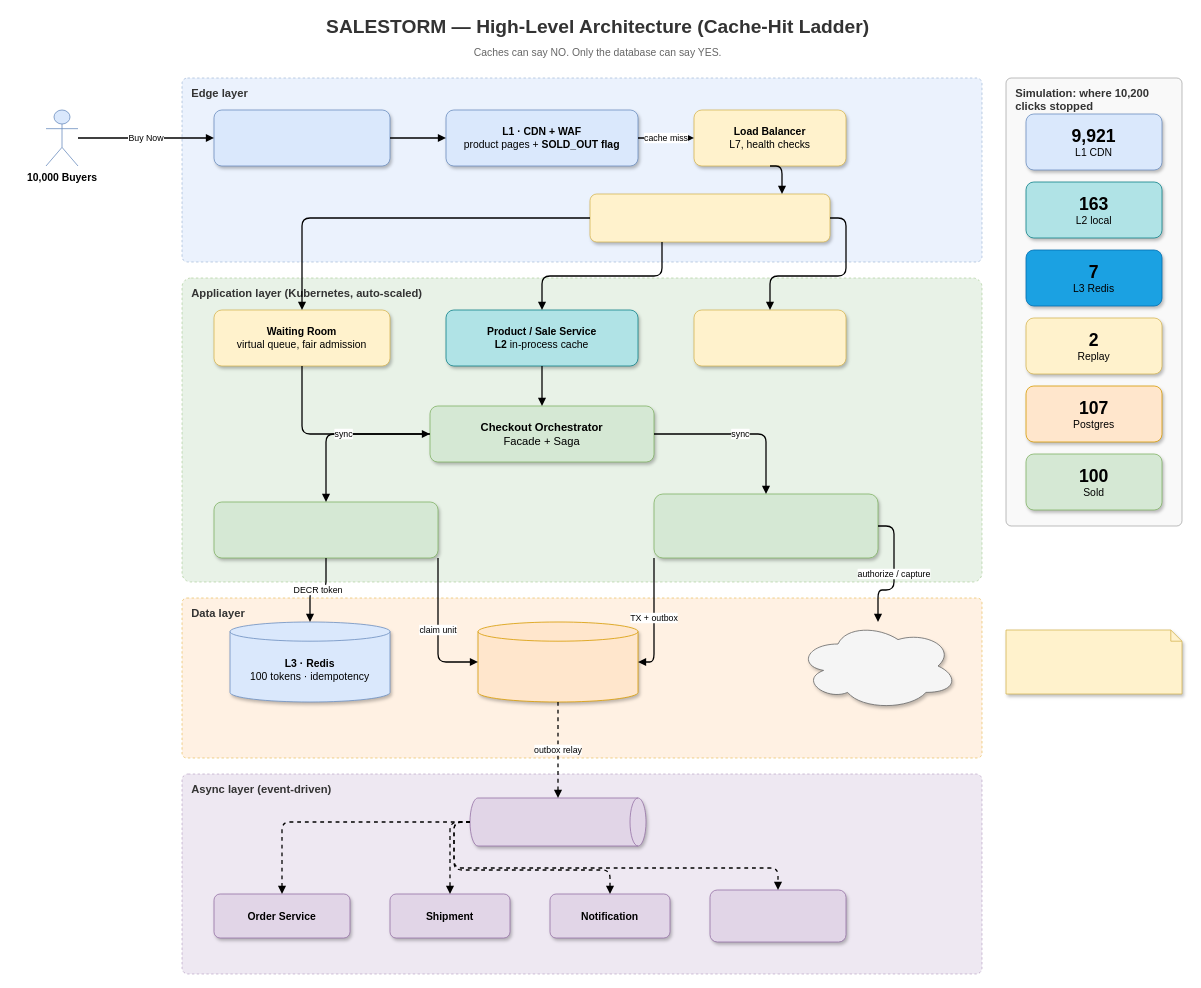
Some shapes in this 1201 by 988 pixel diagram are drawn without their labels. Each missing label, with the centre of its shape:
"API Gateway JWT · rate limit · Idempotency-Key" goes at (x=710, y=219).
"Caches can say NO. Only the database can say YES ." goes at (x=1094, y=663).
"Cart Service" goes at (x=770, y=339).
"Inventory & Reservation unit rows · SKIP LOCKED · TTL 5 min" goes at (x=326, y=531).
"Kafka (via Outbox relay)" goes at (x=558, y=822).
"L0 · Browser cache static assets, countdown, Buy button debounce" goes at (x=302, y=139).
"L4 · Postgres source of truth" goes at (x=558, y=663).
"Payment Gateway Razorpay / Stripe" goes at (x=878, y=667).
"Payment Service authorize → capture Adapter + Circuit Breaker" goes at (x=766, y=527).
"Reconciliation worker" goes at (x=778, y=917).
